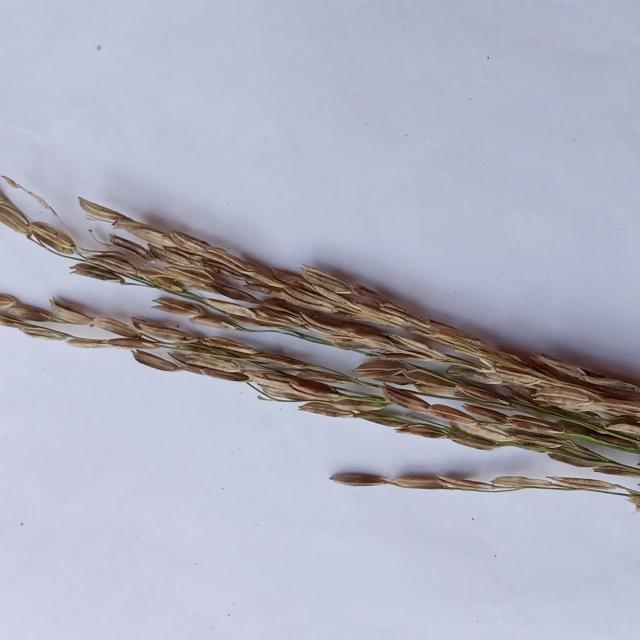Neck_Blast: (0, 185, 640, 441), (0, 292, 640, 521)
